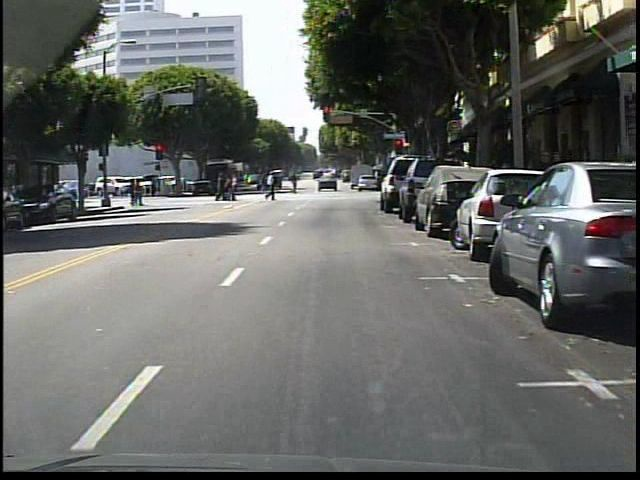person: (261, 168, 282, 204), (286, 169, 304, 198)
